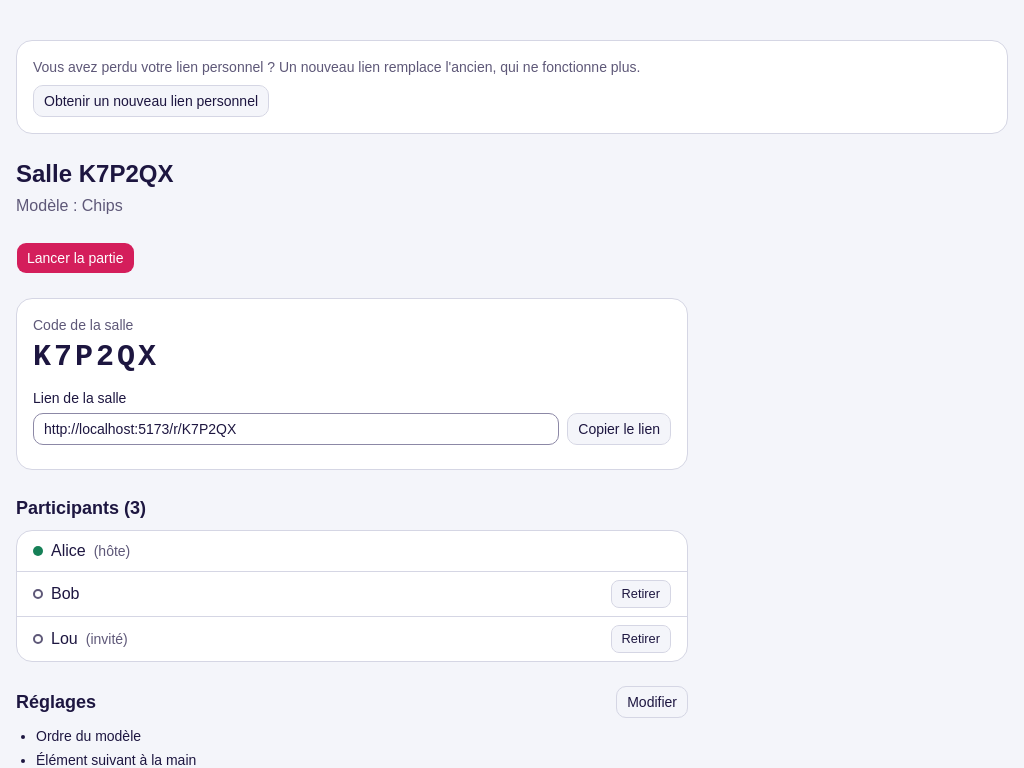
it: RemoveParticipantDialog › bans a participant, who then appears among the banned
Click the button with aria-label "Retirer Bob": [641, 594] box [611,580,671,608]
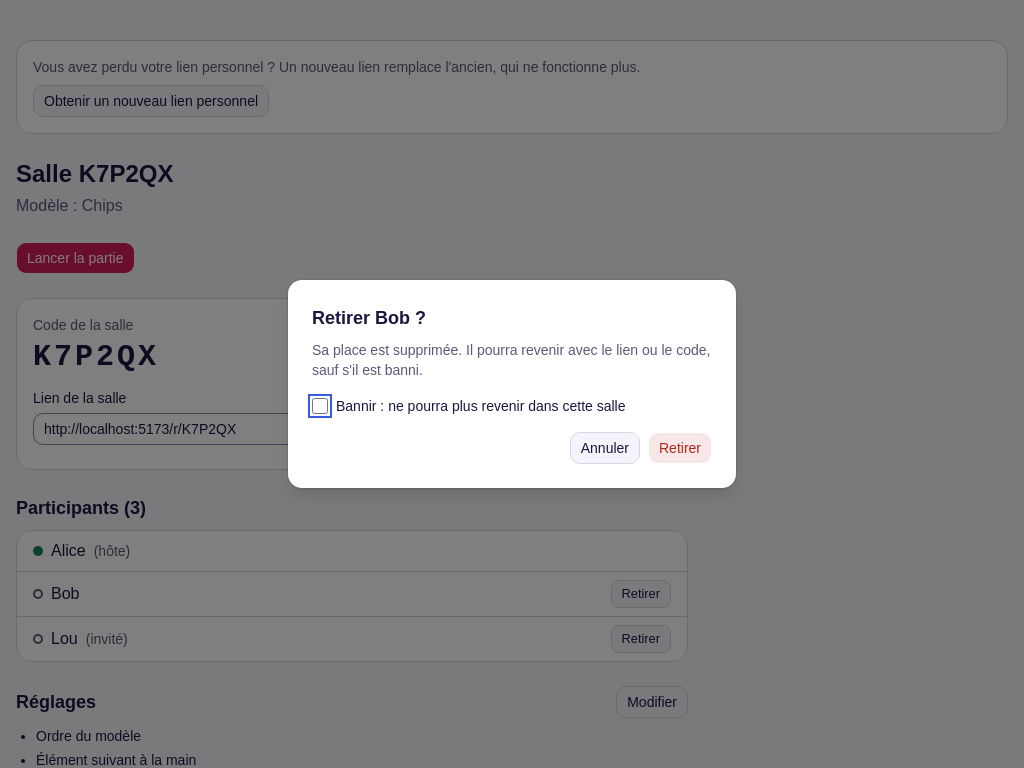
Click the checkbox labelled "Bannir : ne pourra plus revenir dans cette salle": [320, 406] box [312,398,328,414]
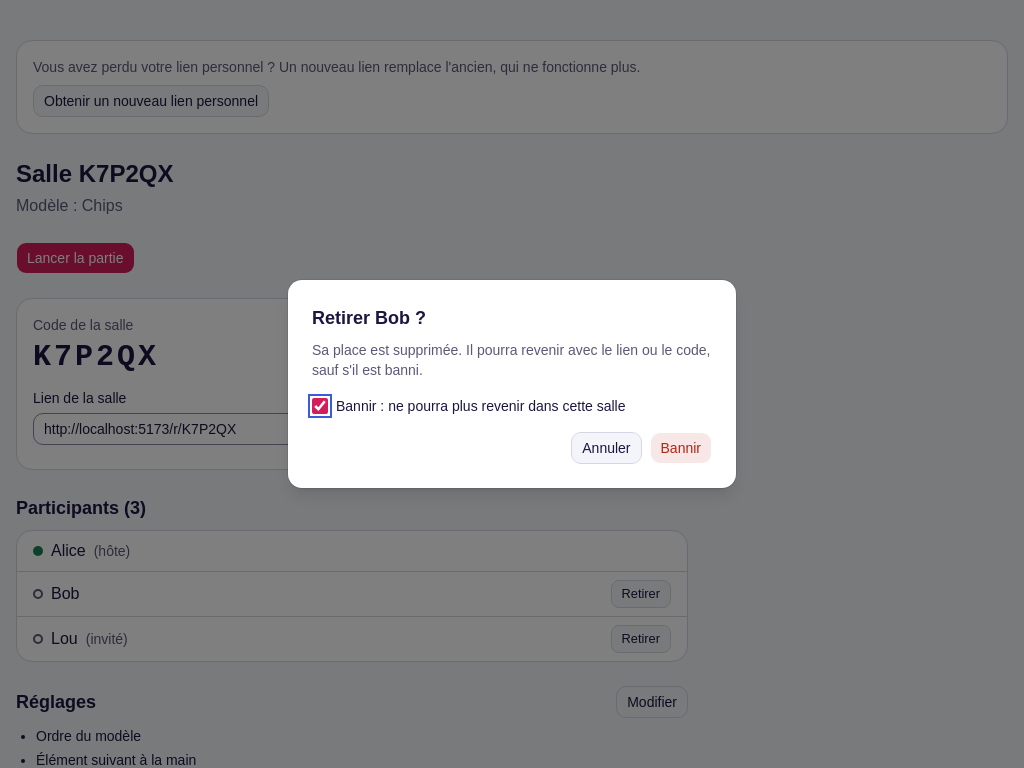
Click the button "Bannir": [681, 448] box [650,432,712,464]
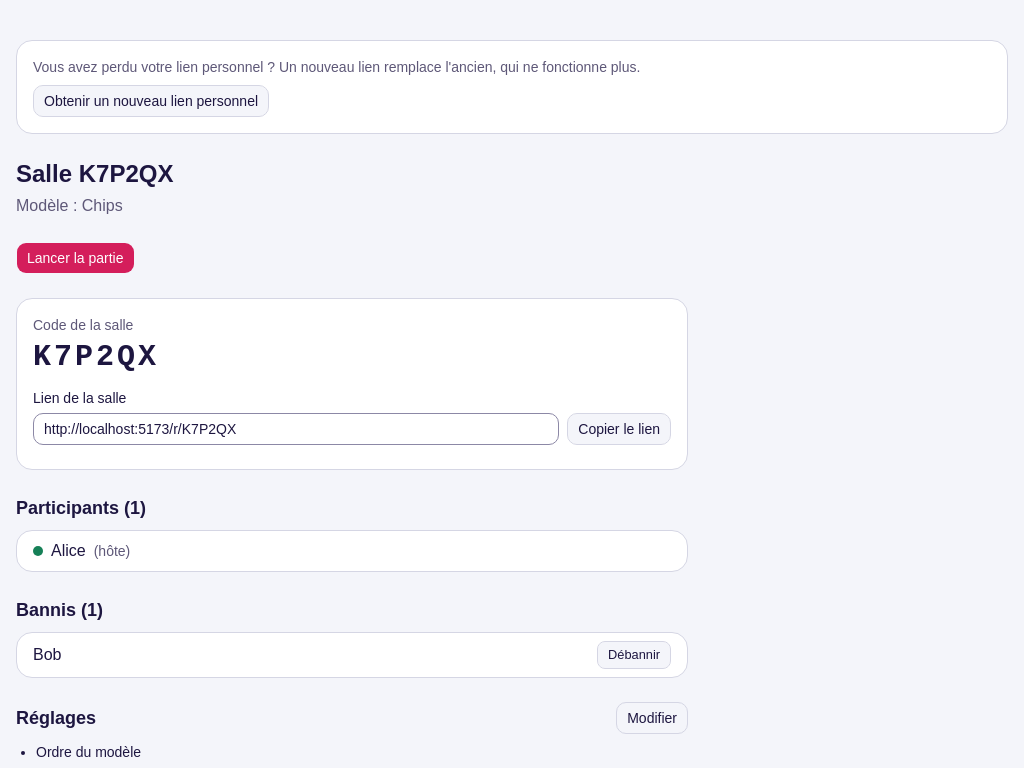
Expected: the heading "Bannis (1)" is shown, [16,600,103,620]
